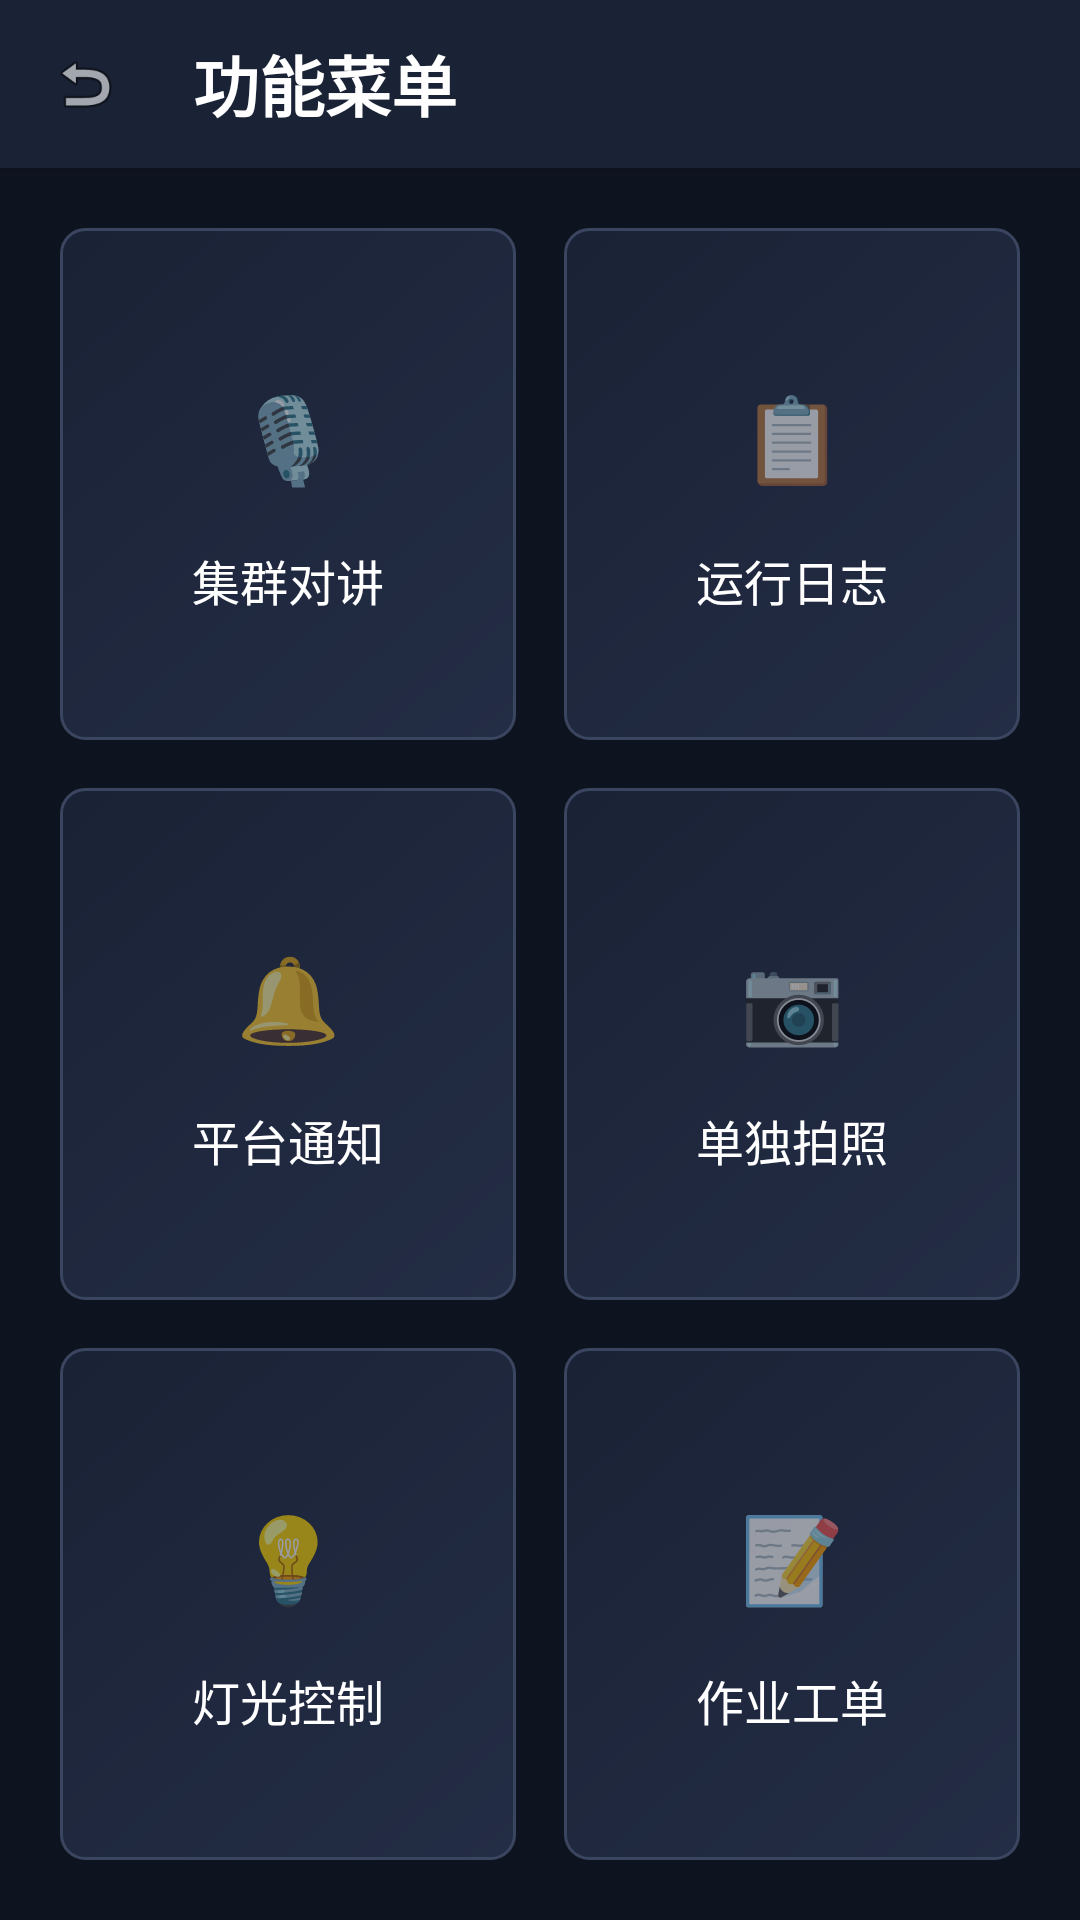

Icons on this 1080*1920 Android screen, each with the point to tap as point (x, y):
返回: point (86, 84)
